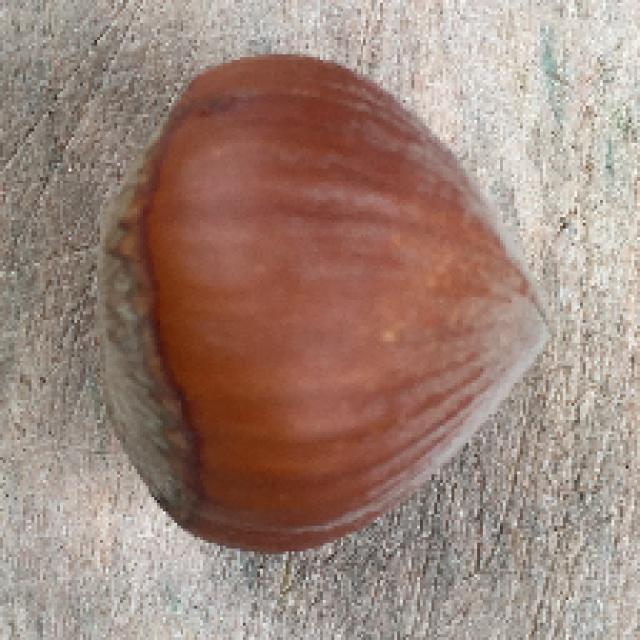hazelnut: (79, 43, 565, 578)
